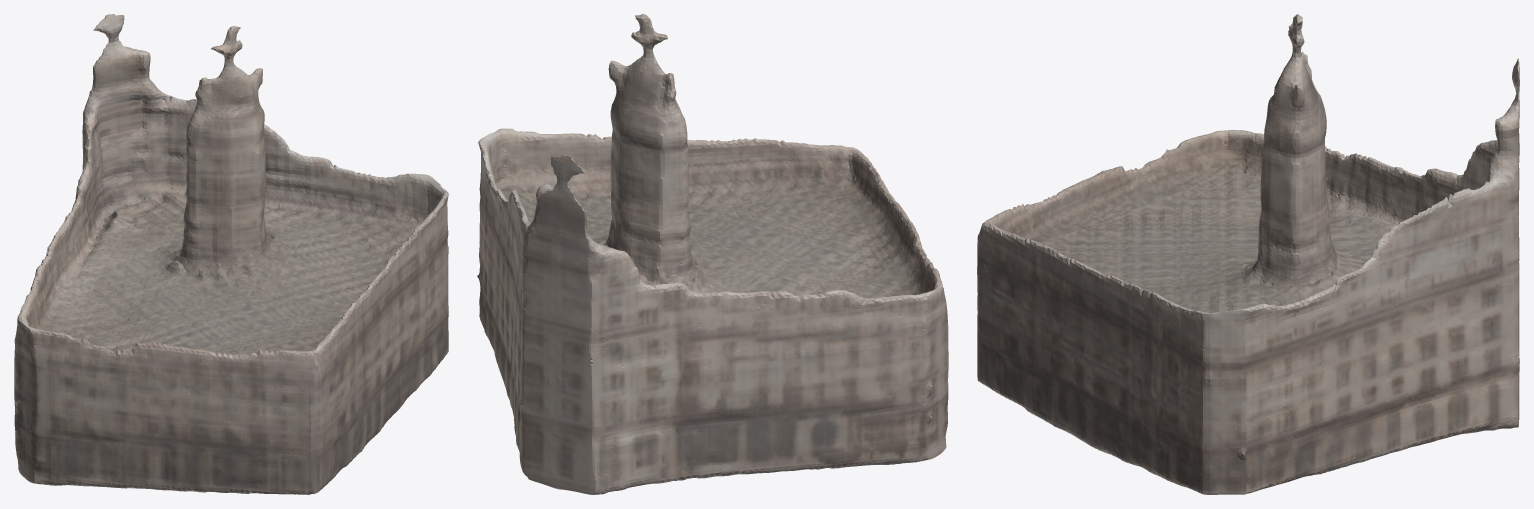
File: paris.glb
3 renders of one model, left to right at view 1: azimuth 30°, elevation 25°; view 2: azimuth 150°, elevation 25°; view 3: azimuth 270°, elevation 25°, orthographic. The views are drawn at different scales.
Visible parts, largest first — view 1: world; view 2: world; view 3: world.
Part boxes in pixels (box(x1,y1,x2,y2)): world: box(14, 14, 448, 494); world: box(477, 14, 948, 494); world: box(977, 14, 1519, 494).
Bounding box in the file's own units: 2 × 1.7 × 1.98.
